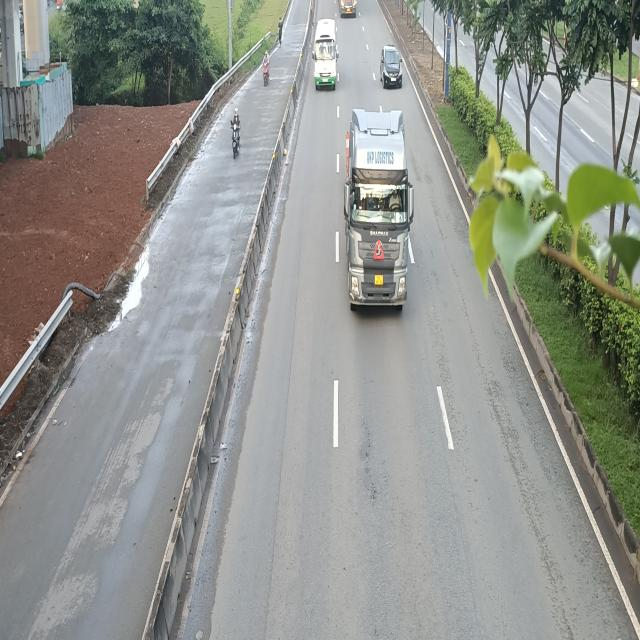car: (381, 46, 403, 91)
coach: (311, 17, 338, 91)
container: (344, 109, 417, 312)
